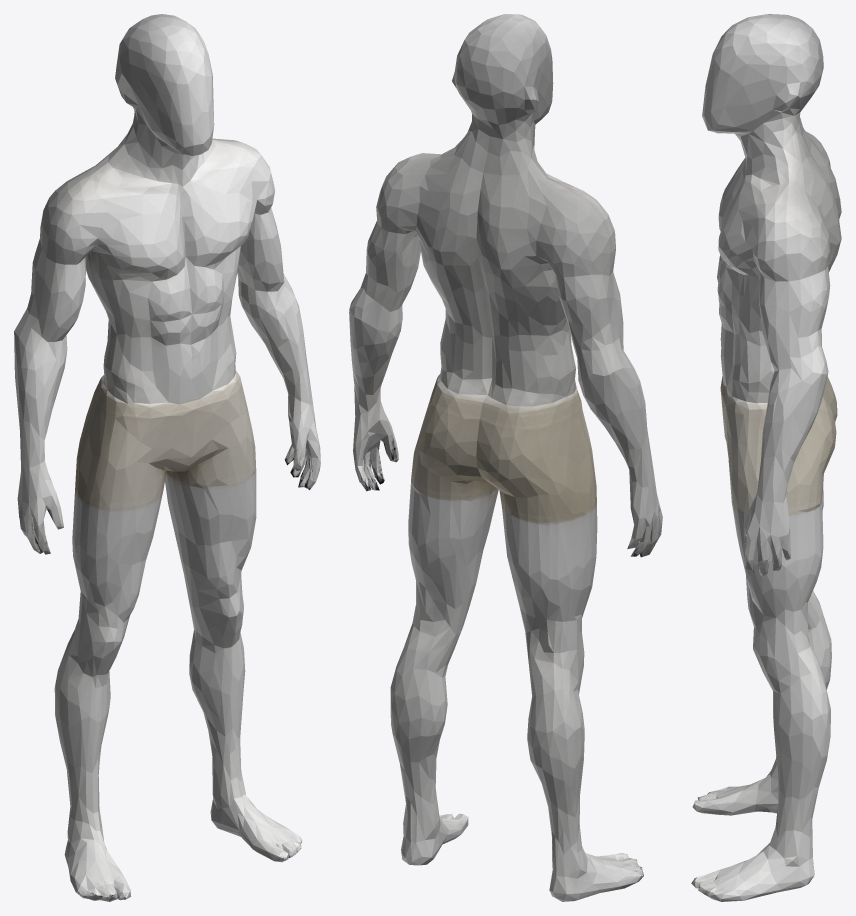
The model's file is body.glb.
3 renders of one model, left to right at view 1: azimuth 30°, elevation 25°; view 2: azimuth 150°, elevation 25°; view 3: azimuth 270°, elevation 25°, orthographic. The views are drawn at different scales.
Visible parts, largest first — view 1: world; view 2: world; view 3: world.
Boxes of the visible parts, x1,y1,x2,y2 form: world: (14,14,320,901); world: (349,14,662,901); world: (691,14,841,901).
Bounding box in the file's own units: 0.3674 × 1 × 0.1638.
1 material, 1 textured.
